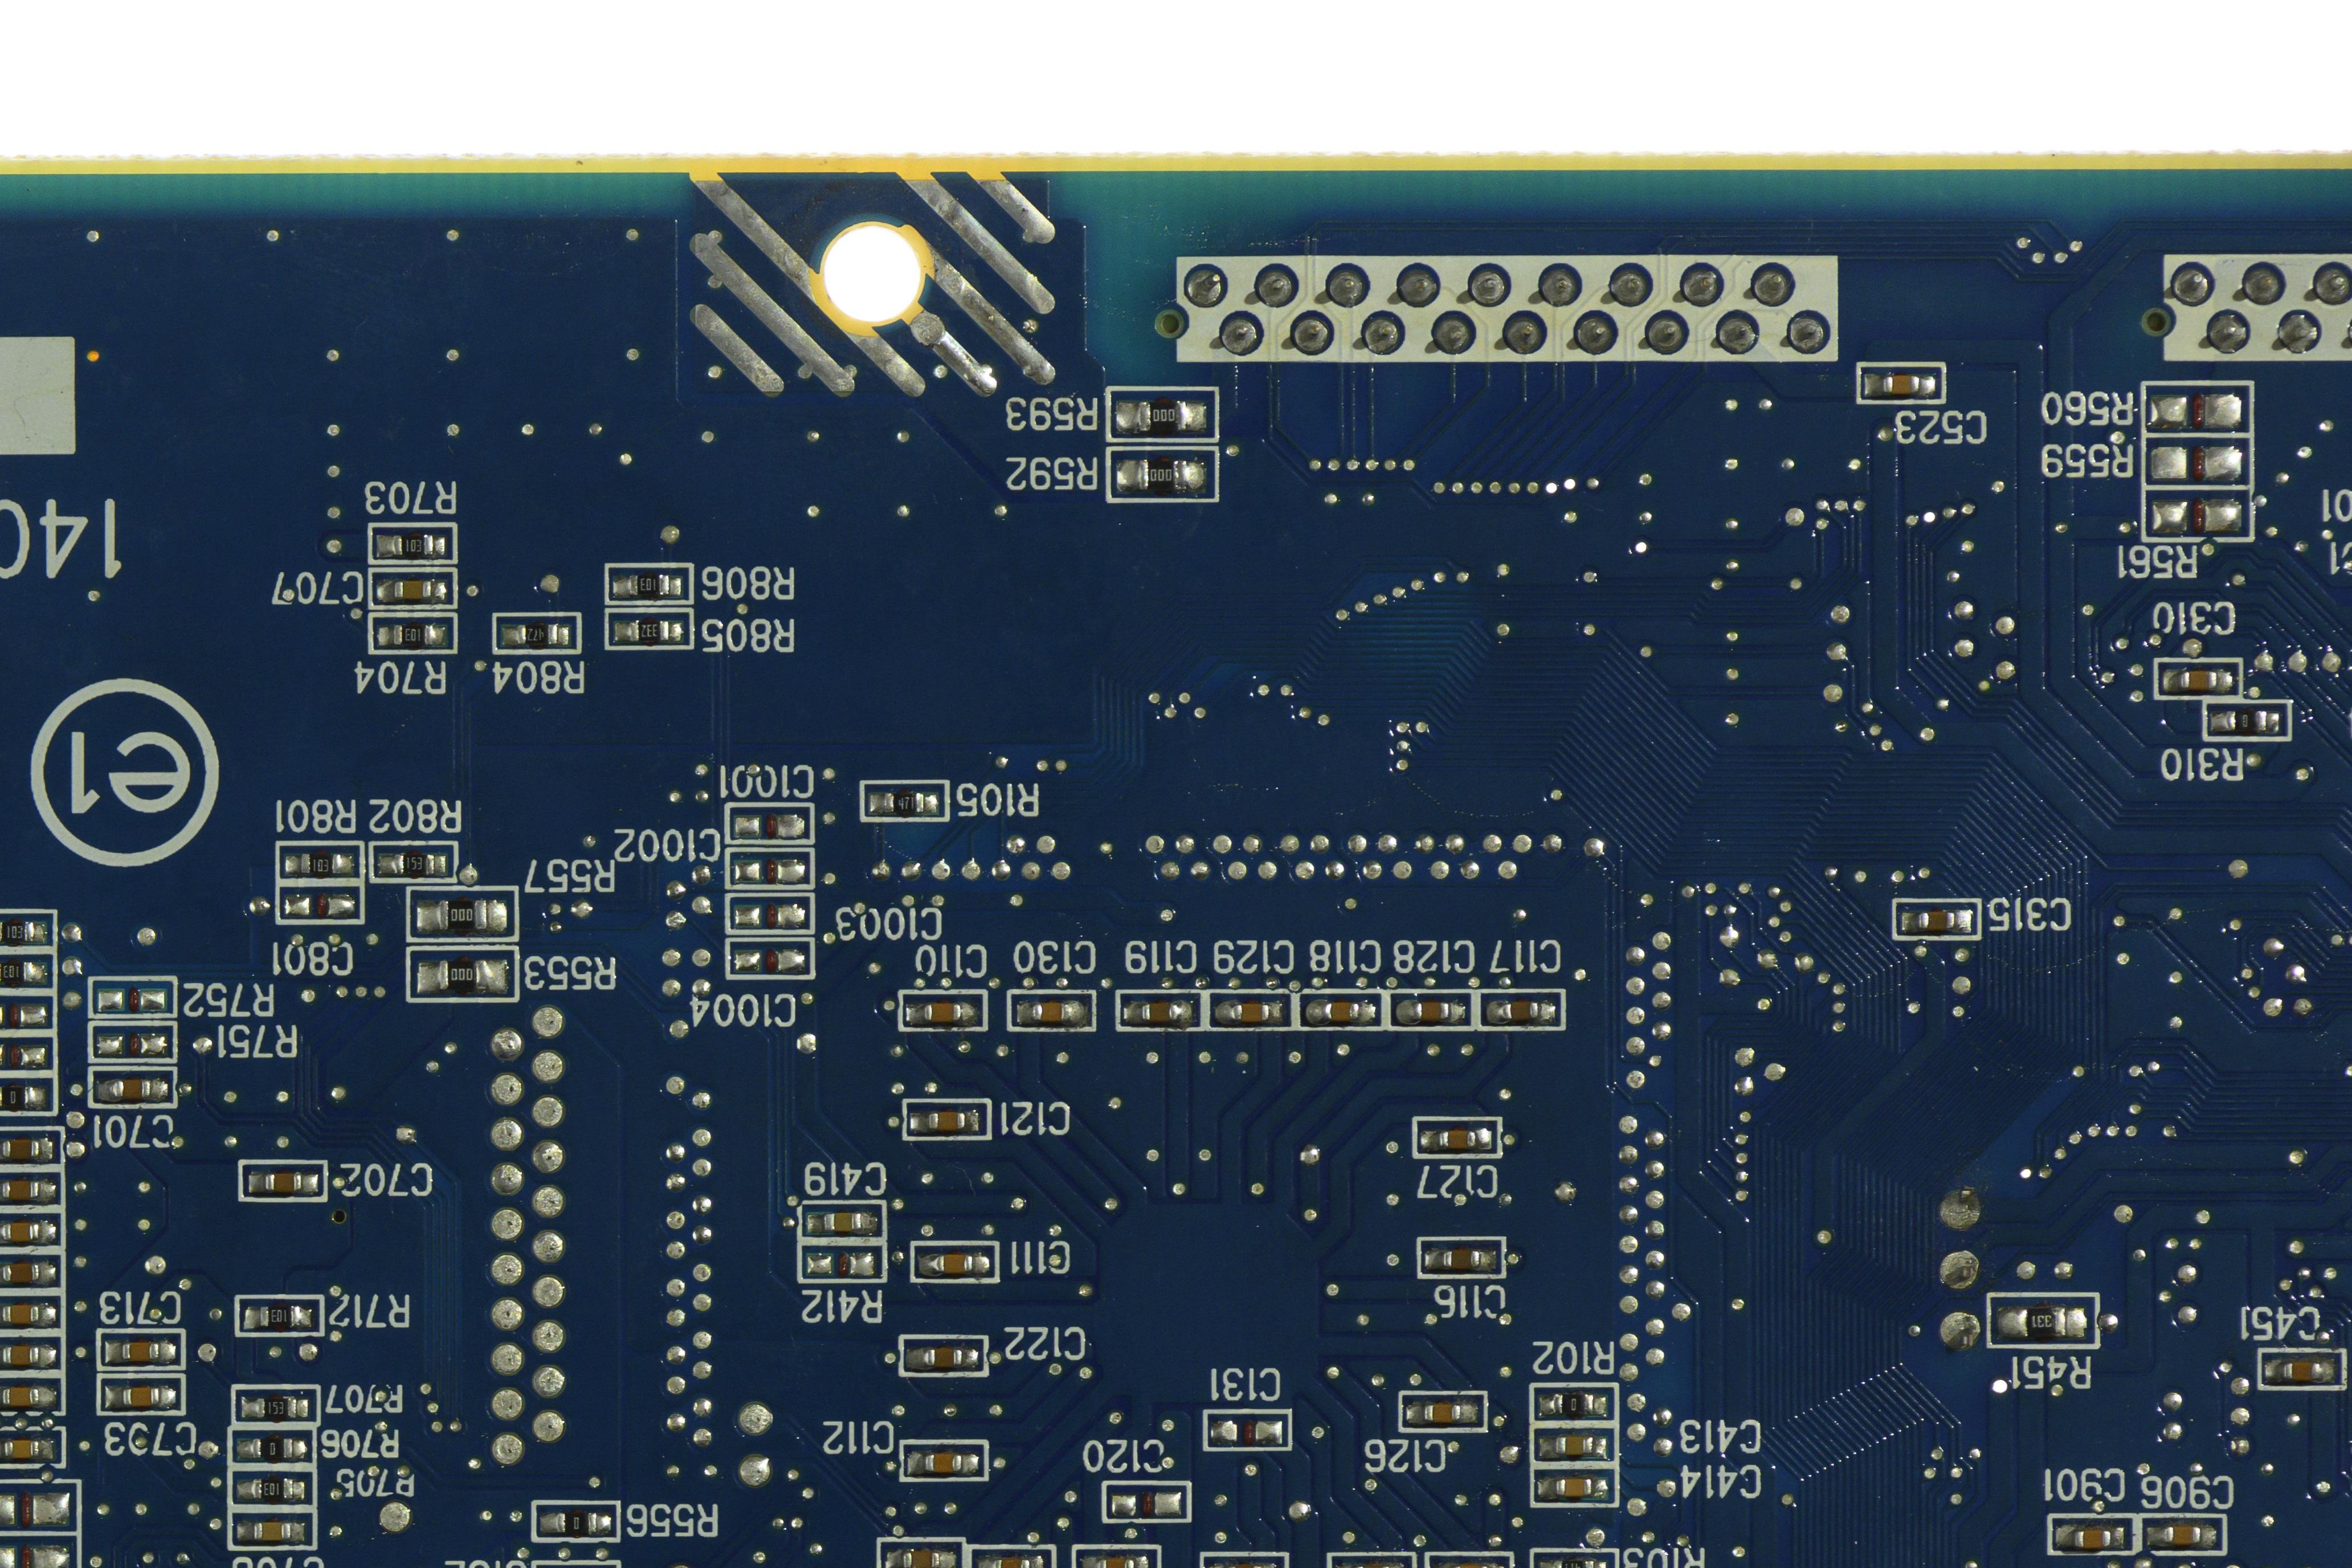capacitors: (387, 576, 436, 602), (924, 1106, 968, 1134), (921, 1344, 964, 1372), (1137, 998, 1181, 1025), (921, 1449, 966, 1475), (109, 1074, 154, 1101), (0, 1433, 45, 1460), (249, 1517, 294, 1543), (2279, 1358, 2324, 1384), (1320, 998, 1362, 1025), (2173, 667, 2221, 691), (821, 1209, 865, 1235), (933, 1249, 976, 1276), (921, 999, 964, 1025), (0, 1176, 44, 1202), (0, 1136, 44, 1162), (0, 1258, 44, 1284), (0, 1218, 44, 1244), (0, 1340, 44, 1367), (0, 1300, 44, 1327), (1878, 371, 1922, 397), (1438, 1246, 1484, 1271), (1435, 1125, 1480, 1150), (1409, 998, 1454, 1022), (119, 1384, 164, 1409), (117, 1339, 163, 1363), (2070, 1526, 2112, 1552), (1498, 998, 1542, 1022), (1419, 1400, 1463, 1425), (1552, 1433, 1596, 1458), (1552, 1475, 1596, 1500), (1029, 999, 1073, 1024), (261, 1169, 304, 1193), (0, 1384, 44, 1409), (1916, 908, 1958, 933), (1229, 1001, 1272, 1024), (2161, 1523, 2205, 1545), (900, 1547, 943, 1568), (989, 1554, 1033, 1568), (1094, 1554, 1137, 1568), (1222, 1561, 1267, 1568), (1445, 1561, 1491, 1568), (1349, 1561, 1393, 1568)
resistors: (2011, 1304, 2070, 1342), (436, 955, 490, 992), (434, 896, 488, 933), (1136, 457, 1190, 492), (1134, 399, 1188, 434), (1549, 1388, 1598, 1419), (511, 620, 562, 649), (249, 1431, 296, 1463), (551, 1507, 600, 1536), (2219, 707, 2270, 735), (880, 788, 927, 817), (390, 850, 436, 880), (249, 1475, 296, 1503), (257, 1302, 304, 1330), (390, 620, 436, 648), (625, 570, 670, 599), (299, 850, 345, 878), (625, 618, 672, 644), (390, 530, 434, 558), (0, 1082, 40, 1111), (256, 1395, 298, 1421), (0, 957, 37, 987), (0, 917, 37, 945), (1547, 1556, 1596, 1568)
